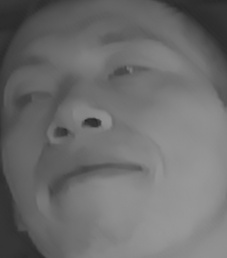eye: (105, 55, 153, 87), (9, 86, 53, 112)
mouth: (42, 153, 145, 203)
